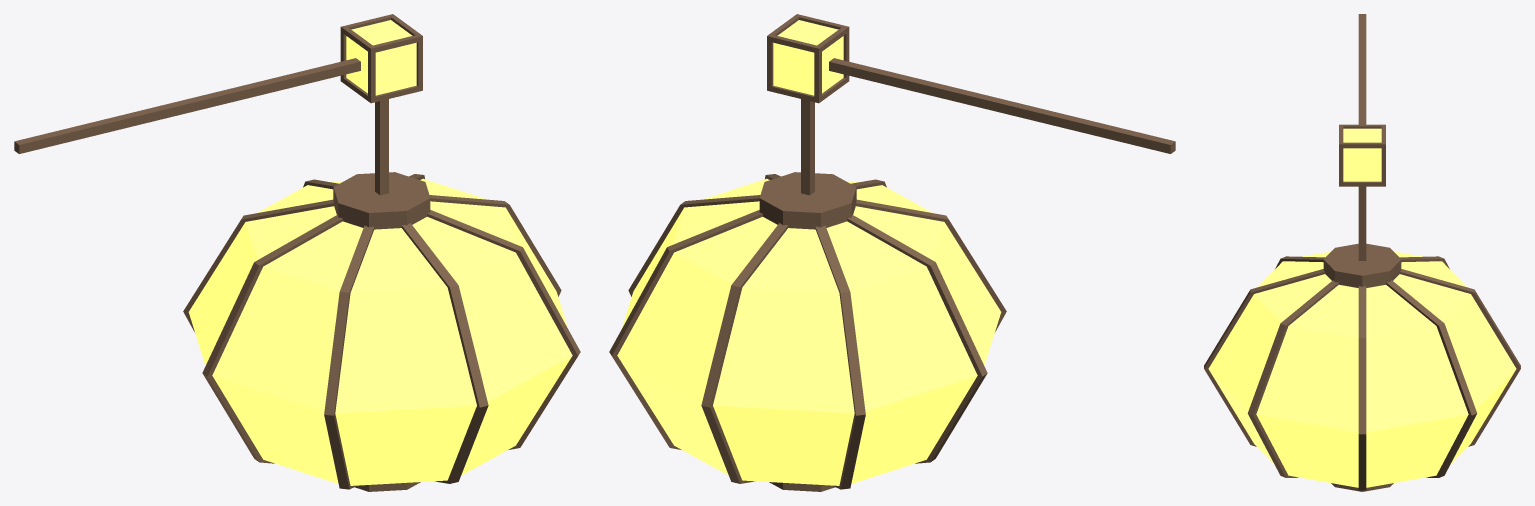
Rendered from Lampada_Larga.fbx.
3 views of the same model, side by side, from view 1: azimuth 30°, elevation 25°; view 2: azimuth 150°, elevation 25°; view 3: azimuth 270°, elevation 25° (orthographic). The views are drawn at different scales.
Parts seen in each view (by area): view 1: Lampada, Rinforzo, Giunto, SostegnoPrincipale, BloccoSuperiore, SostegnoSecondario; view 2: Lampada, Rinforzo, Giunto, SostegnoPrincipale, BloccoSuperiore, SostegnoSecondario; view 3: Lampada, Rinforzo, Giunto, BloccoSuperiore, SostegnoPrincipale, SostegnoSecondario.
Part boxes in pixels (x1,y1,x2,y2): Lampada: (188, 178, 572, 485); Rinforzo: (183, 174, 580, 489); Giunto: (340, 14, 422, 103); SostegnoPrincipale: (14, 58, 360, 153); BloccoSuperiore: (333, 172, 430, 229); SostegnoSecondario: (375, 99, 388, 195); Lampada: (617, 178, 1001, 485); Rinforzo: (609, 174, 1006, 489); Giunto: (767, 14, 849, 103); SostegnoPrincipale: (829, 58, 1175, 153); BloccoSuperiore: (759, 172, 856, 229); SostegnoSecondario: (801, 99, 814, 195); Lampada: (1208, 251, 1516, 487); Rinforzo: (1204, 256, 1520, 490); Giunto: (1339, 124, 1385, 186); BloccoSuperiore: (1323, 243, 1401, 287); SostegnoPrincipale: (1358, 14, 1366, 124); SostegnoSecondario: (1358, 186, 1366, 260).
Bounding box in the file's own units: 0.9354 × 0.6109 × 0.7253.
